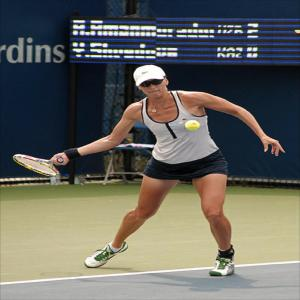TennisBall: (185, 120, 201, 131)
